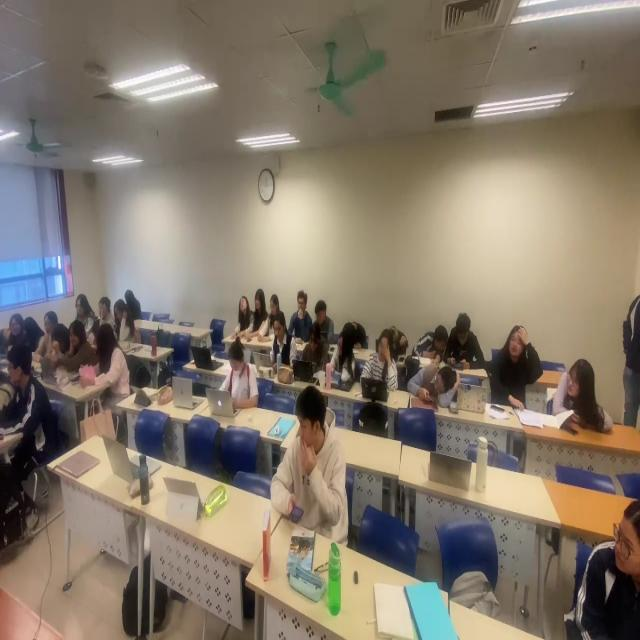raise_head: (568, 481, 640, 640), (555, 349, 610, 437), (493, 323, 539, 424), (61, 319, 94, 371), (286, 288, 312, 340), (311, 299, 336, 345), (40, 309, 60, 365), (234, 285, 253, 338), (74, 291, 96, 333), (251, 286, 268, 333), (6, 306, 26, 343), (97, 292, 112, 330)
sleep: (411, 357, 457, 413), (384, 319, 410, 364)
using_computer: (211, 339, 263, 414), (363, 328, 399, 405), (256, 311, 298, 373), (295, 322, 326, 381)
using_phone: (266, 377, 354, 539), (80, 319, 133, 408), (322, 324, 359, 396), (448, 310, 487, 373), (126, 283, 144, 320)
